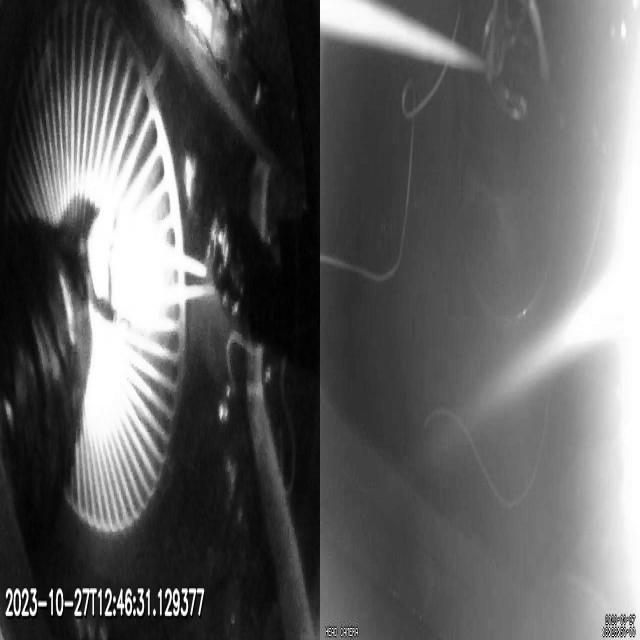head: (88, 208, 166, 331)
